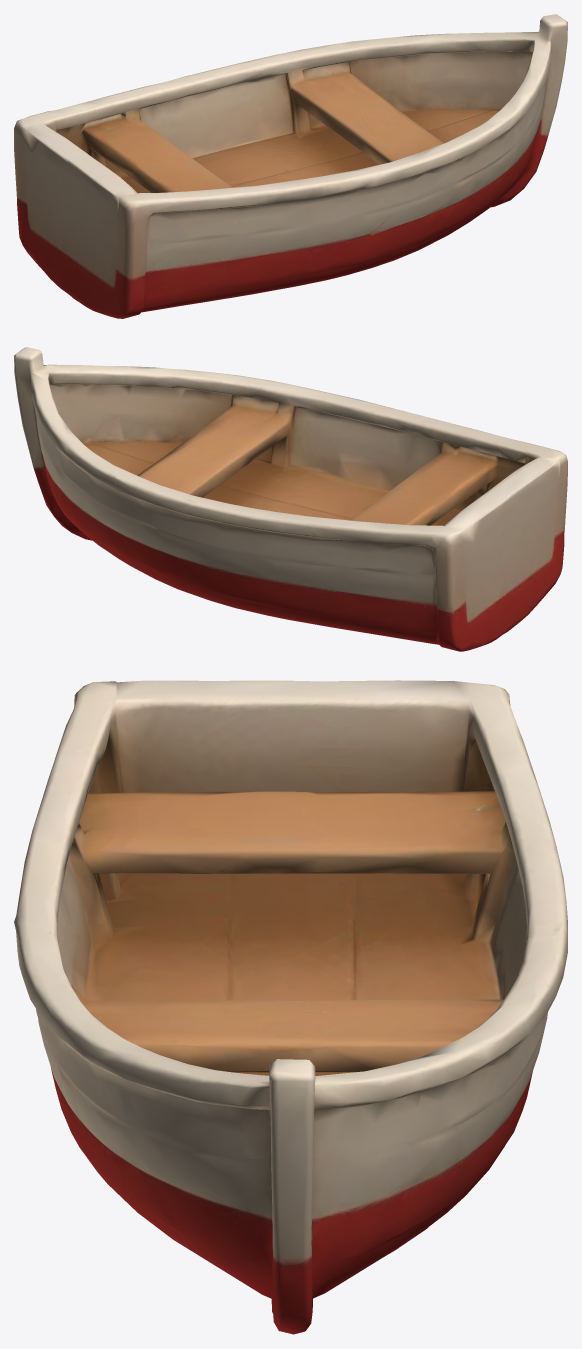
File: rowboat.glb
The picture shows the model from 3 angles, top to bottom: view 1: azimuth 30°, elevation 25°; view 2: azimuth 150°, elevation 25°; view 3: azimuth 270°, elevation 25°; orthographic projection. The views are drawn at different scales.
Visible parts, largest first — view 1: tripo_node_090544f4-5835-4adc-a1d4-ed462452dfe6; view 2: tripo_node_090544f4-5835-4adc-a1d4-ed462452dfe6; view 3: tripo_node_090544f4-5835-4adc-a1d4-ed462452dfe6.
Boxes of the visible parts, left/top/right/bottom form: tripo_node_090544f4-5835-4adc-a1d4-ed462452dfe6: left=14, top=14, right=567, bottom=318; tripo_node_090544f4-5835-4adc-a1d4-ed462452dfe6: left=14, top=347, right=567, bottom=651; tripo_node_090544f4-5835-4adc-a1d4-ed462452dfe6: left=14, top=680, right=567, bottom=1334.
Size of the model in its own units: 1 by 0.3368 by 0.5297.
Materials: 1 (1 with a texture image).
